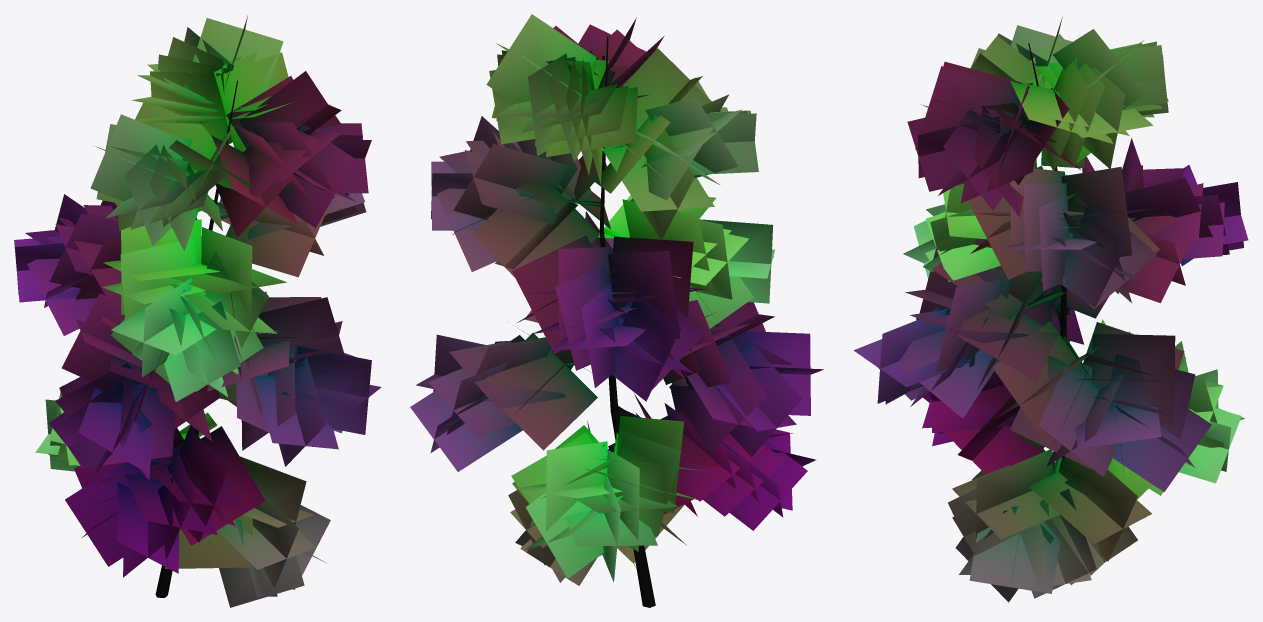
The model's file is URP_P14_Tree_4_LOD_3.fbx.
The picture shows the model from 3 angles, left to right: view 1: azimuth 30°, elevation 25°; view 2: azimuth 150°, elevation 25°; view 3: azimuth 270°, elevation 25°; orthographic projection. The views are drawn at different scales.
Parts seen in each view (by area): view 1: Tree_4_LOD_3; view 2: Tree_4_LOD_3; view 3: Tree_4_LOD_3.
Boxes of the visible parts, left/top/right/bottom form: Tree_4_LOD_3: left=14, top=15, right=381, bottom=607; Tree_4_LOD_3: left=410, top=14, right=823, bottom=607; Tree_4_LOD_3: left=854, top=17, right=1248, bottom=602.
Bounding box in the file's own units: 414 × 667 × 412.
